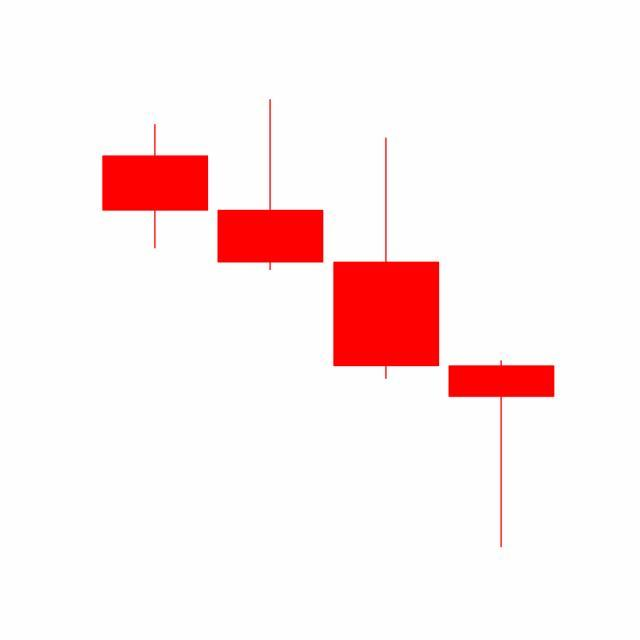Hammer: (444, 359, 560, 551)
